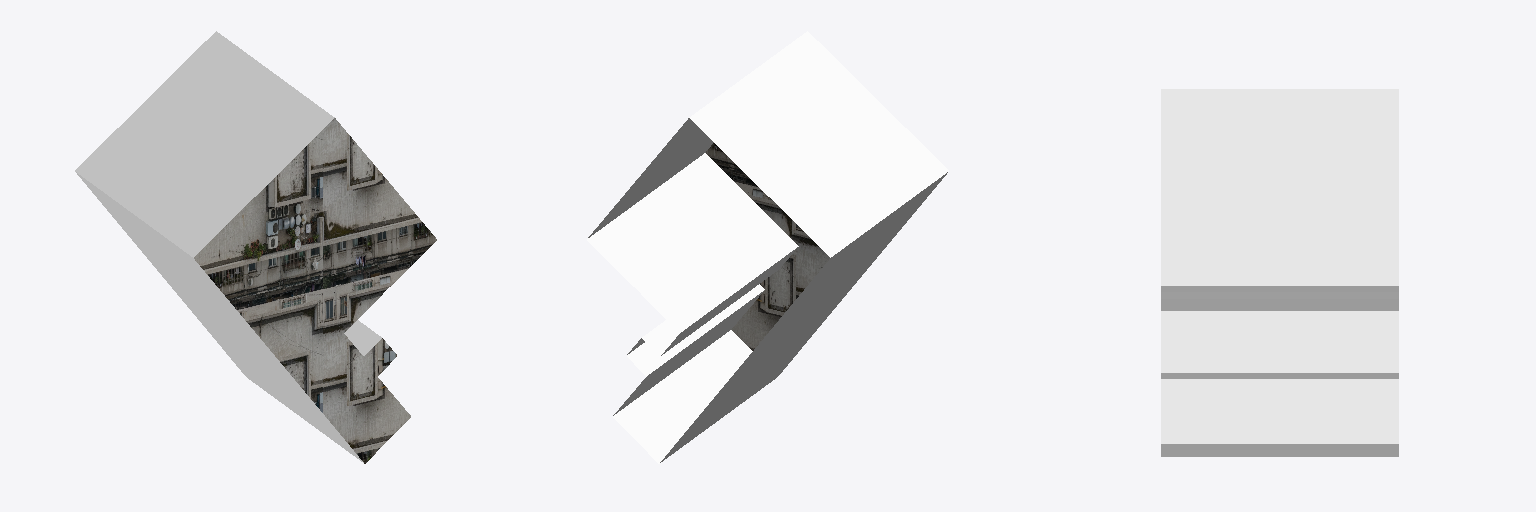
The picture shows the model from 3 angles: view 1: azimuth 30°, elevation 25°; view 2: azimuth 150°, elevation 25°; view 3: azimuth 270°, elevation 25°; orthographic projection.
Visible parts, largest first — view 1: Building; view 2: Building; view 3: Building.
Part boxes in pixels (left/top/right/bottom): Building: left=75, top=31, right=436, bottom=463; Building: left=587, top=31, right=948, bottom=463; Building: left=1161, top=89, right=1398, bottom=456.
Bounding box in the file's own units: 21.35 × 29.56 × 18.
Materials: 2 (1 with a texture image).